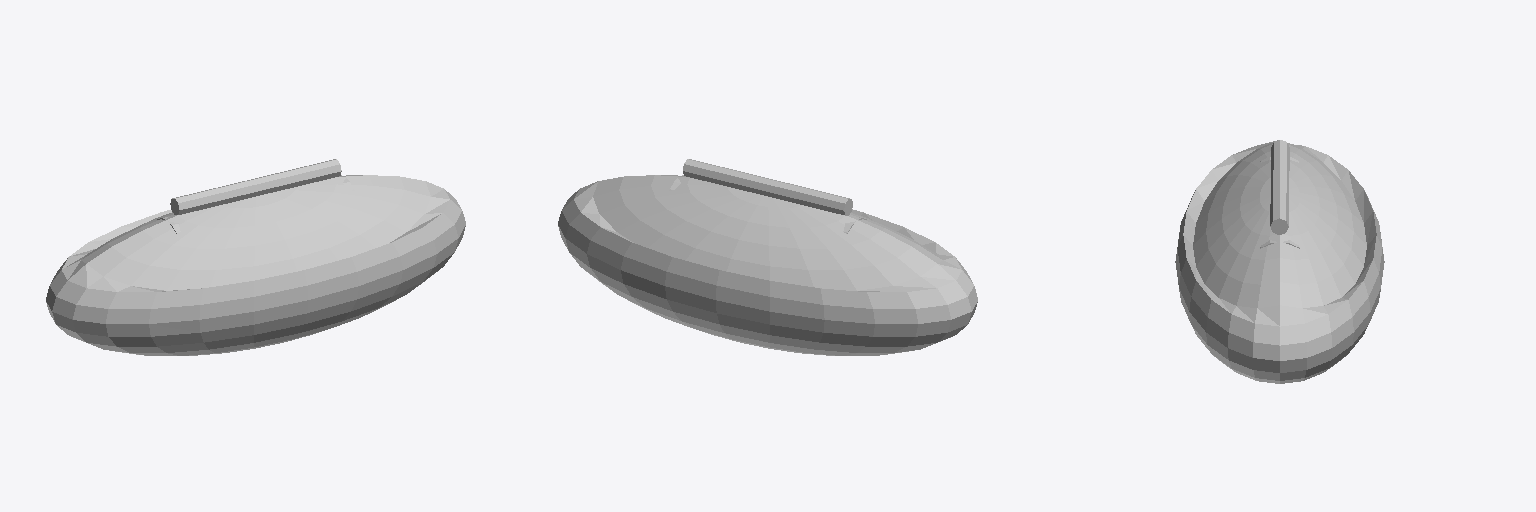
File: gem_type_7.obj
The picture shows the model from 3 angles: view 1: azimuth 30°, elevation 25°; view 2: azimuth 150°, elevation 25°; view 3: azimuth 270°, elevation 25°; orthographic projection.
Parts seen in each view (by area): view 1: gem_type_7; view 2: gem_type_7; view 3: gem_type_7.
Boxes of the visible parts, x1=… form: gem_type_7: x1=46, y1=159, x2=465, y2=355; gem_type_7: x1=558, y1=159, x2=977, y2=355; gem_type_7: x1=1175, y1=140, x2=1384, y2=383.
Bounding box in the file's own units: 1.26 × 0.455 × 0.56.